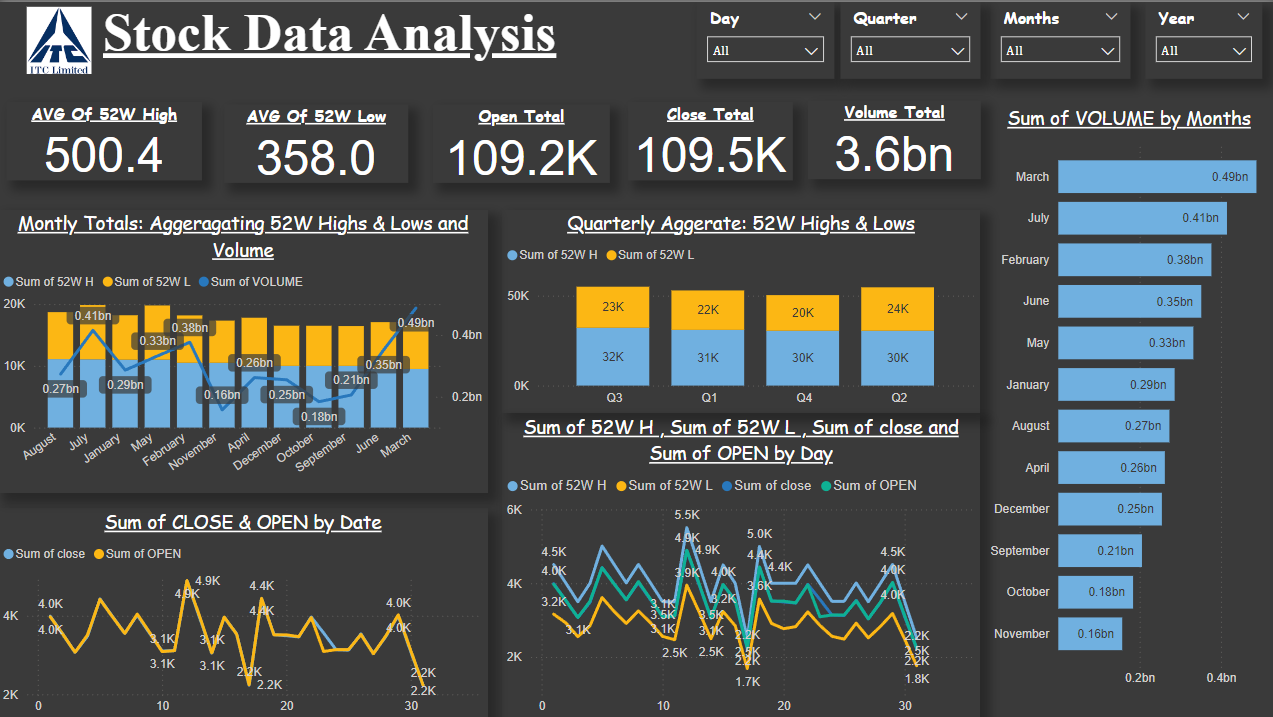

What the dashboard file says about the page in this screenshot:
{"tool":"powerbi","page":{"name":"Page 1","canvas":[1280,720],"ordinal":0},"visuals":[{"type":"slicer","fields":{"Values":["ITC data.Day"]},"box":[698.5,0,137.2,76.8],"z":0},{"type":"slicer","fields":{"Values":["ITC data.Months"]},"box":[992.1,0,140,76.8],"z":1000},{"type":"slicer","fields":{"Values":["ITC data.Year"]},"box":[1147.2,0,116.6,76.8],"z":2000},{"type":"slicer","fields":{"Values":["ITC data.Quarter"]},"box":[842.5,0,140,76.8],"z":3000},{"type":"card","title":"AVG Of 52W High","fields":{"Values":["Avg(ITC data.52W H )"]},"box":[8.2,100.2,194.9,78.2],"z":4000},{"type":"card","title":"AVG Of 52W Low","fields":{"Values":["Avg(ITC data.52W L )"]},"box":[226.4,102.9,183.9,78.2],"z":5000},{"type":"card","title":"Close Total","fields":{"Values":["Sum(ITC data.close )"]},"box":[629.8,100.2,164.7,78.2],"z":6000},{"type":"card","title":"Open Total","fields":{"Values":["Sum(ITC data.OPEN )"]},"box":[435,102.9,177,78.2],"z":7000},{"type":"card","title":"Volume Total","fields":{"Values":["Sum(ITC data.VOLUME )"]},"box":[810,98.6,172.9,78.6],"z":8000},{"type":"columnChart","title":"Quarterly Aggerate: 52W Highs & Lows","fields":{"Y":["Sum(ITC data.52W H )","Sum(ITC data.52W L )"],"Category":["ITC data.Quarter"]},"box":[504.3,207.1,478.6,204.3],"z":9000},{"type":"lineStackedColumnComboChart","title":"Montly Totals: Aggeragating 52W Highs & Lows and Volume","fields":{"Y":["Sum(ITC data.52W H )","Sum(ITC data.52W L )"],"Category":["ITC data.Months"],"Y2":["Sum(ITC data.VOLUME )"]},"box":[0,207.1,490,284.3],"z":10000},{"type":"lineChart","title":"Sum of CLOSE & OPEN  by Date","fields":{"Category":["ITC data.Date .Variation.Date Hierarchy.Day"],"Y":["Sum(ITC data.close )","Sum(ITC data.OPEN )"]},"box":[0,505.7,490,214.3],"z":11000},{"type":"lineChart","fields":{"Y":["Sum(ITC data.52W H )","Sum(ITC data.52W L )","Sum(ITC data.close )","Sum(ITC data.OPEN )"],"Category":["ITC data.Date .Variation.Date Hierarchy.Day"]},"box":[504.3,411.4,478.6,308.6],"z":12000},{"type":"clusteredBarChart","fields":{"Category":["ITC data.Months"],"Y":["Sum(ITC data.VOLUME )"]},"box":[982.9,102.9,297.1,590],"z":13000},{"type":"image","box":[17.8,0,87.8,76.8],"z":14000},{"type":"textbox","title":"Stock Data Analysis","box":[100.2,0,529.7,89.2],"z":15000}]}

Visuals, with their boxes in screenshot pixels (x1, y1, x2, y2), scaled from the page's 1280x720 canvas onto the 1273x717 screenshot:
slicer - ITC data.Day: crop(695, 0, 831, 76)
slicer - ITC data.Months: crop(987, 0, 1126, 76)
slicer - ITC data.Year: crop(1141, 0, 1257, 76)
slicer - ITC data.Quarter: crop(838, 0, 977, 76)
"AVG Of 52W High" card: crop(8, 100, 202, 178)
"AVG Of 52W Low" card: crop(225, 102, 408, 180)
"Close Total" card: crop(626, 100, 790, 178)
"Open Total" card: crop(433, 102, 609, 180)
"Volume Total" card: crop(806, 98, 978, 176)
"Quarterly Aggerate: 52W Highs & Lows" columnChart: crop(502, 206, 978, 410)
"Montly Totals: Aggeragating 52W Highs & Lows and Volume" lineStackedColumnComboChart: crop(0, 206, 487, 489)
"Sum of CLOSE & OPEN  by Date" lineChart: crop(0, 504, 487, 716)
lineChart - Sum(ITC data.52W H ) x Sum(ITC data.52W L ): crop(502, 410, 978, 716)
clusteredBarChart - ITC data.Months x Sum(ITC data.VOLUME ): crop(978, 102, 1272, 690)
image: crop(18, 0, 105, 76)
"Stock Data Analysis" textbox: crop(100, 0, 626, 89)
